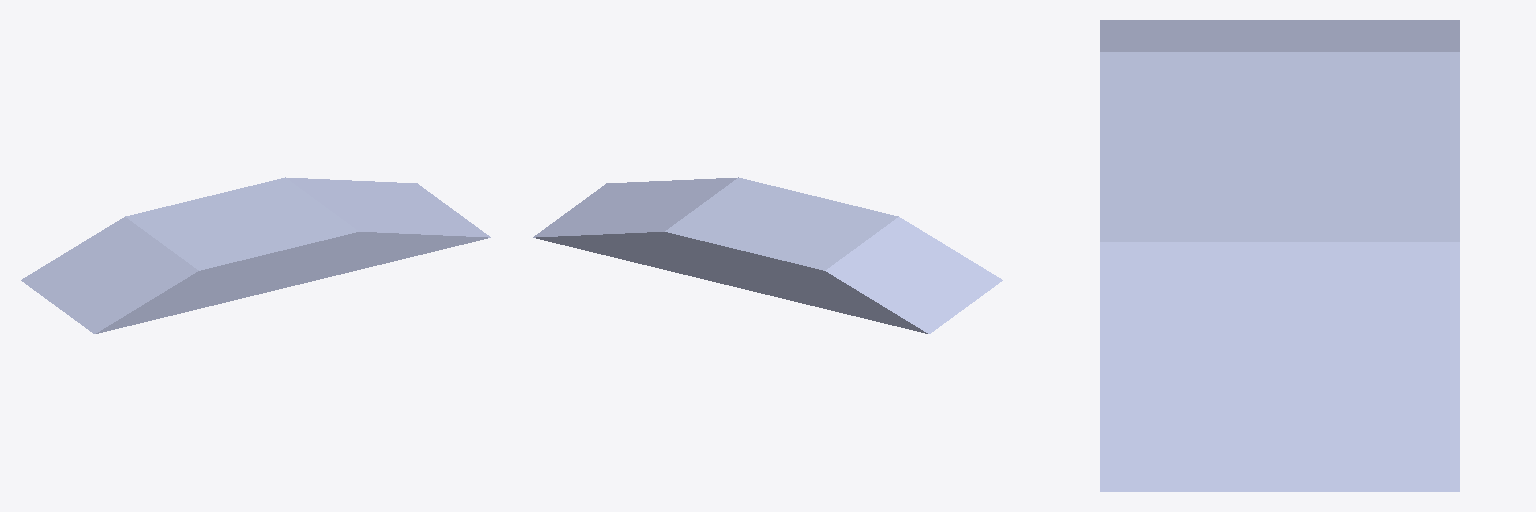
robot.urdf — incline_plane:
<?xml version="1.0" encoding="utf-8"?>
<!-- This URDF was automatically created by SolidWorks to URDF Exporter! Originally created by [author] ([email redacted]) 
     Commit Version: 1.6.0-1-g15f4949  Build Version: 1.6.7594.29634
     For more information, please see http://wiki.ros.org/sw_urdf_exporter -->
<robot
  name="incline_plane">
  <link
    name="base_link">
    <inertial>
      <origin
        xyz="0.600097973508678 0.2 0.0487818584295284"
        rpy="0 0 0" />
      <mass
        value="39.4788577535736" />
      <inertia
        ixx="0.566318401927816"
        ixy="1.73879054151979E-16"
        ixz="0.0150927472692977"
        iyy="2.97421497969118"
        iyz="-1.02129293278978E-17"
        izz="3.46066611785867" />
    </inertial>
    <visual>
      <origin
        xyz="0 0 0"
        rpy="0 0 0" />
      <geometry>
        <mesh
          filename="package://incline_plane/meshes/base_link.STL" />
      </geometry>
      <material
        name="">
        <color
          rgba="0.792156862745098 0.819607843137255 0.933333333333333 1" />
      </material>
    </visual>
    <collision>
      <origin
        xyz="0 0 0"
        rpy="0 0 0" />
      <geometry>
        <mesh
          filename="package://incline_plane/meshes/base_link.STL" />
      </geometry>
    </collision>
  </link>
</robot>

--- What the picture shows (computed from the rendered views, not written in the file) ---
The picture shows the robot from 3 angles, left to right: view 1: azimuth 30°, elevation 25°; view 2: azimuth 150°, elevation 25°; view 3: azimuth 270°, elevation 25°; orthographic projection.
Model incline_plane with 1 links and 0 joints (none), rooted at base_link, posed all joints at 0.
Visible links, largest first — view 1: base_link; view 2: base_link; view 3: base_link.
Boxes of the visible links, bbox=[...] form: base_link: bbox=[21, 177, 490, 333]; base_link: bbox=[533, 177, 1002, 333]; base_link: bbox=[1100, 20, 1459, 491].
Size in the robot's own frame: 1.24 by 0.4 by 0.1136 metres.
Meshes: 1 distinct files referenced, 1 mesh visuals loaded (1 binary STL).